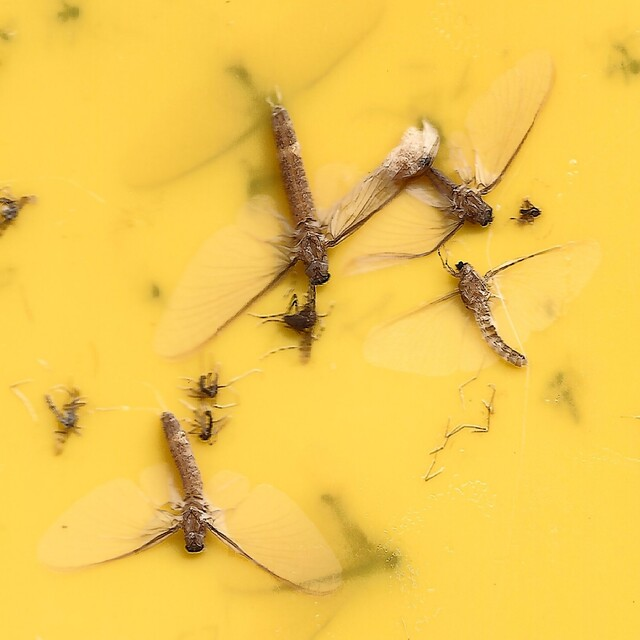Ephemeroptera: (160, 99, 440, 354), (37, 411, 343, 595), (342, 45, 557, 276), (360, 236, 603, 375)
